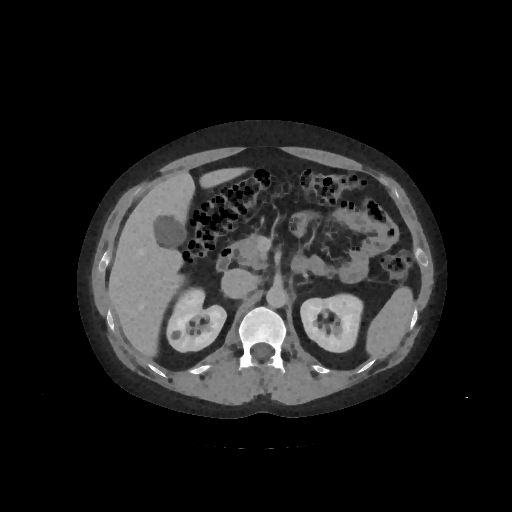Lesion: (168, 328, 184, 344)
